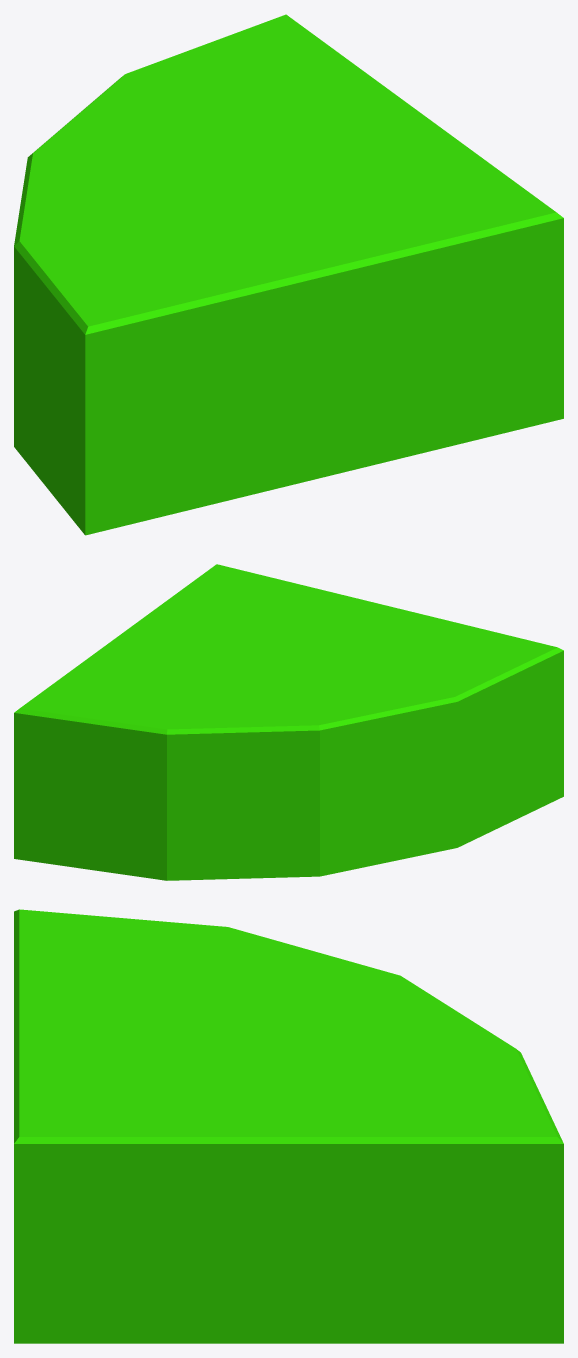
The model's file is round_5x2_02.fbx.
The picture shows the model from 3 angles, top to bottom: view 1: azimuth 30°, elevation 25°; view 2: azimuth 150°, elevation 25°; view 3: azimuth 270°, elevation 25°; orthographic projection. The views are drawn at different scales.
Parts seen in each view (by area): view 1: round_5x2_02; view 2: round_5x2_02; view 3: round_5x2_02.
Boxes of the visible parts, x1,y1,x2,y2 form: round_5x2_02: (14, 14, 563, 535); round_5x2_02: (14, 564, 563, 880); round_5x2_02: (14, 909, 563, 1343).
Bounding box in the file's own units: 512 × 210 × 512.
